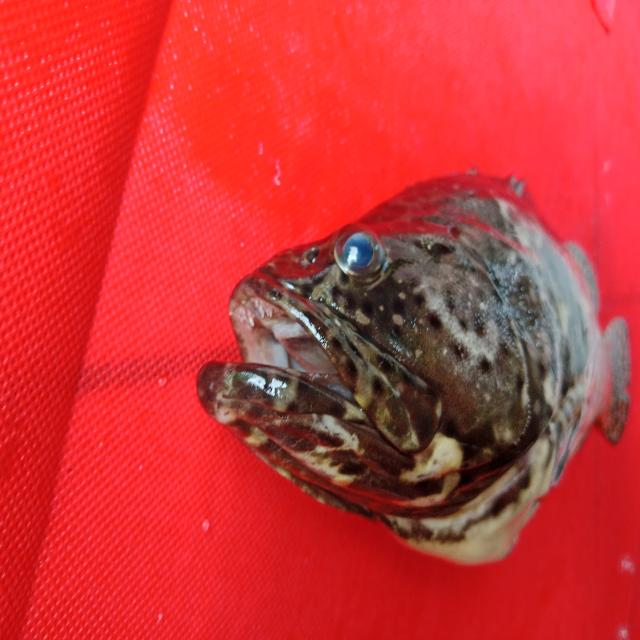ikan: (169, 124, 626, 576)
